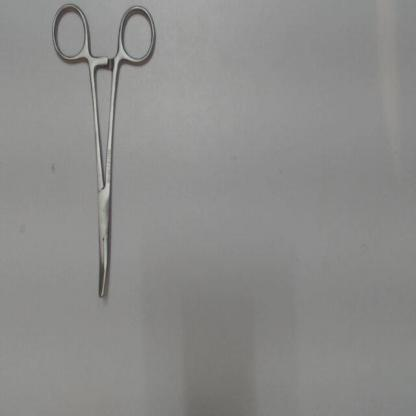Crile Artery Forceps: (50, 2, 160, 305)
